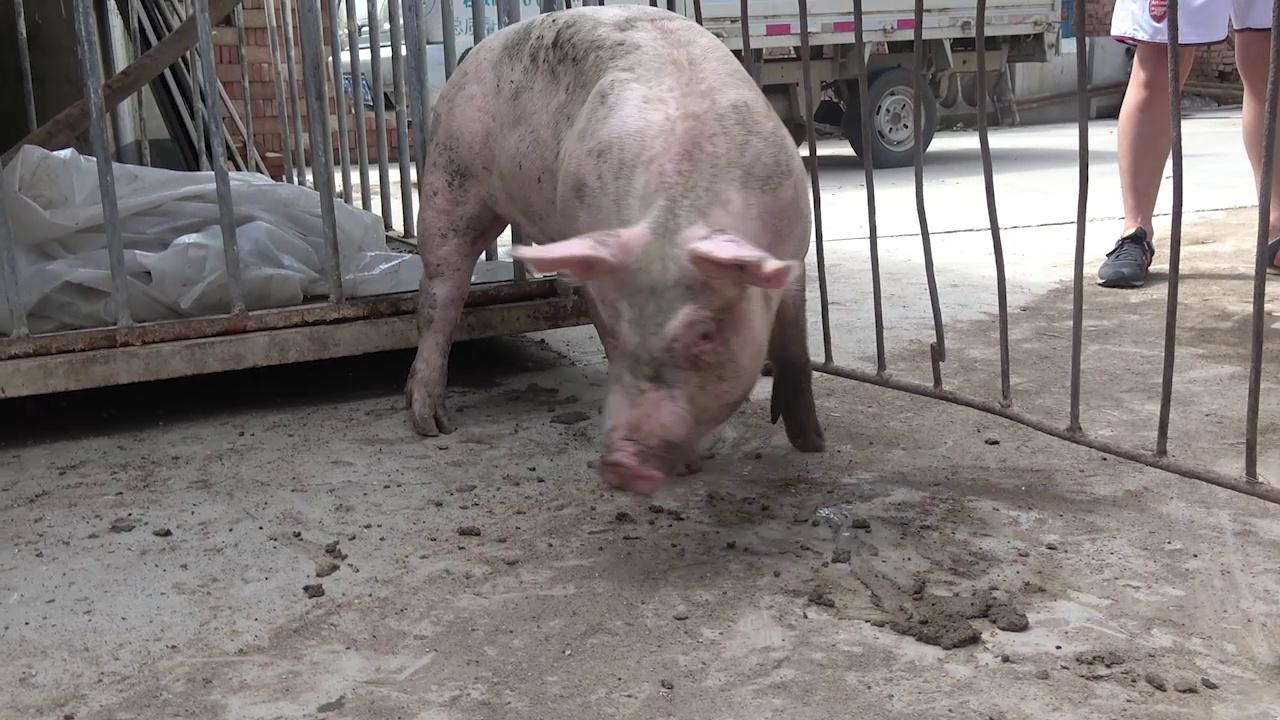Face: (509, 216, 818, 505)
